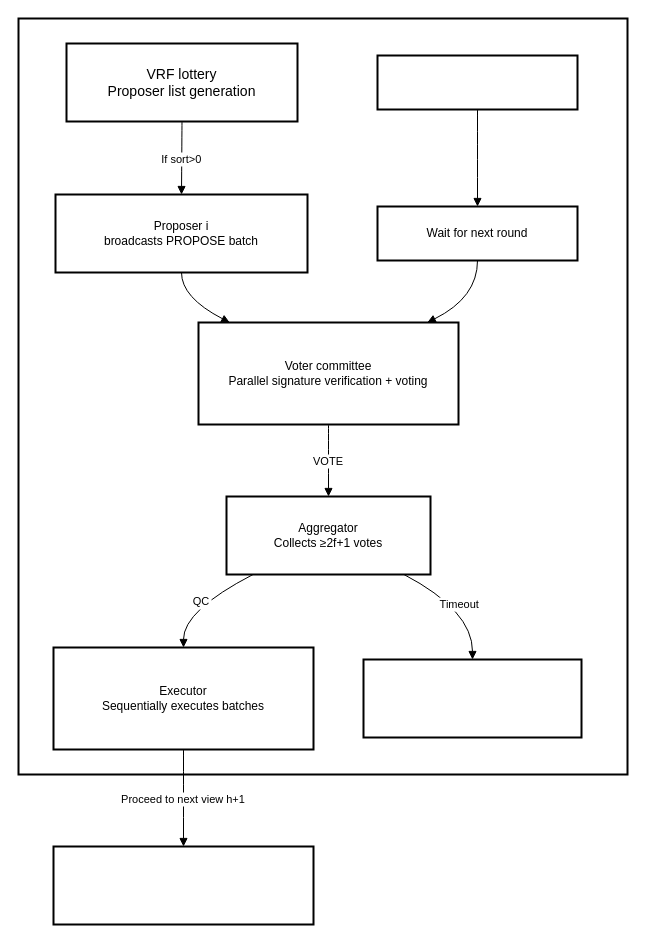
The diagram is 645 pixels wide and 942 high, and some of its shapes have lost their labels. The shapes that lost their labels are listed below. From the top down, each one's centre as x and y in pixels, then its label:
point (477, 82): Non-selected nodes
point (472, 698): Backup aggregator Initiates new proposal
point (183, 885): View h+1 process overlapping execution
